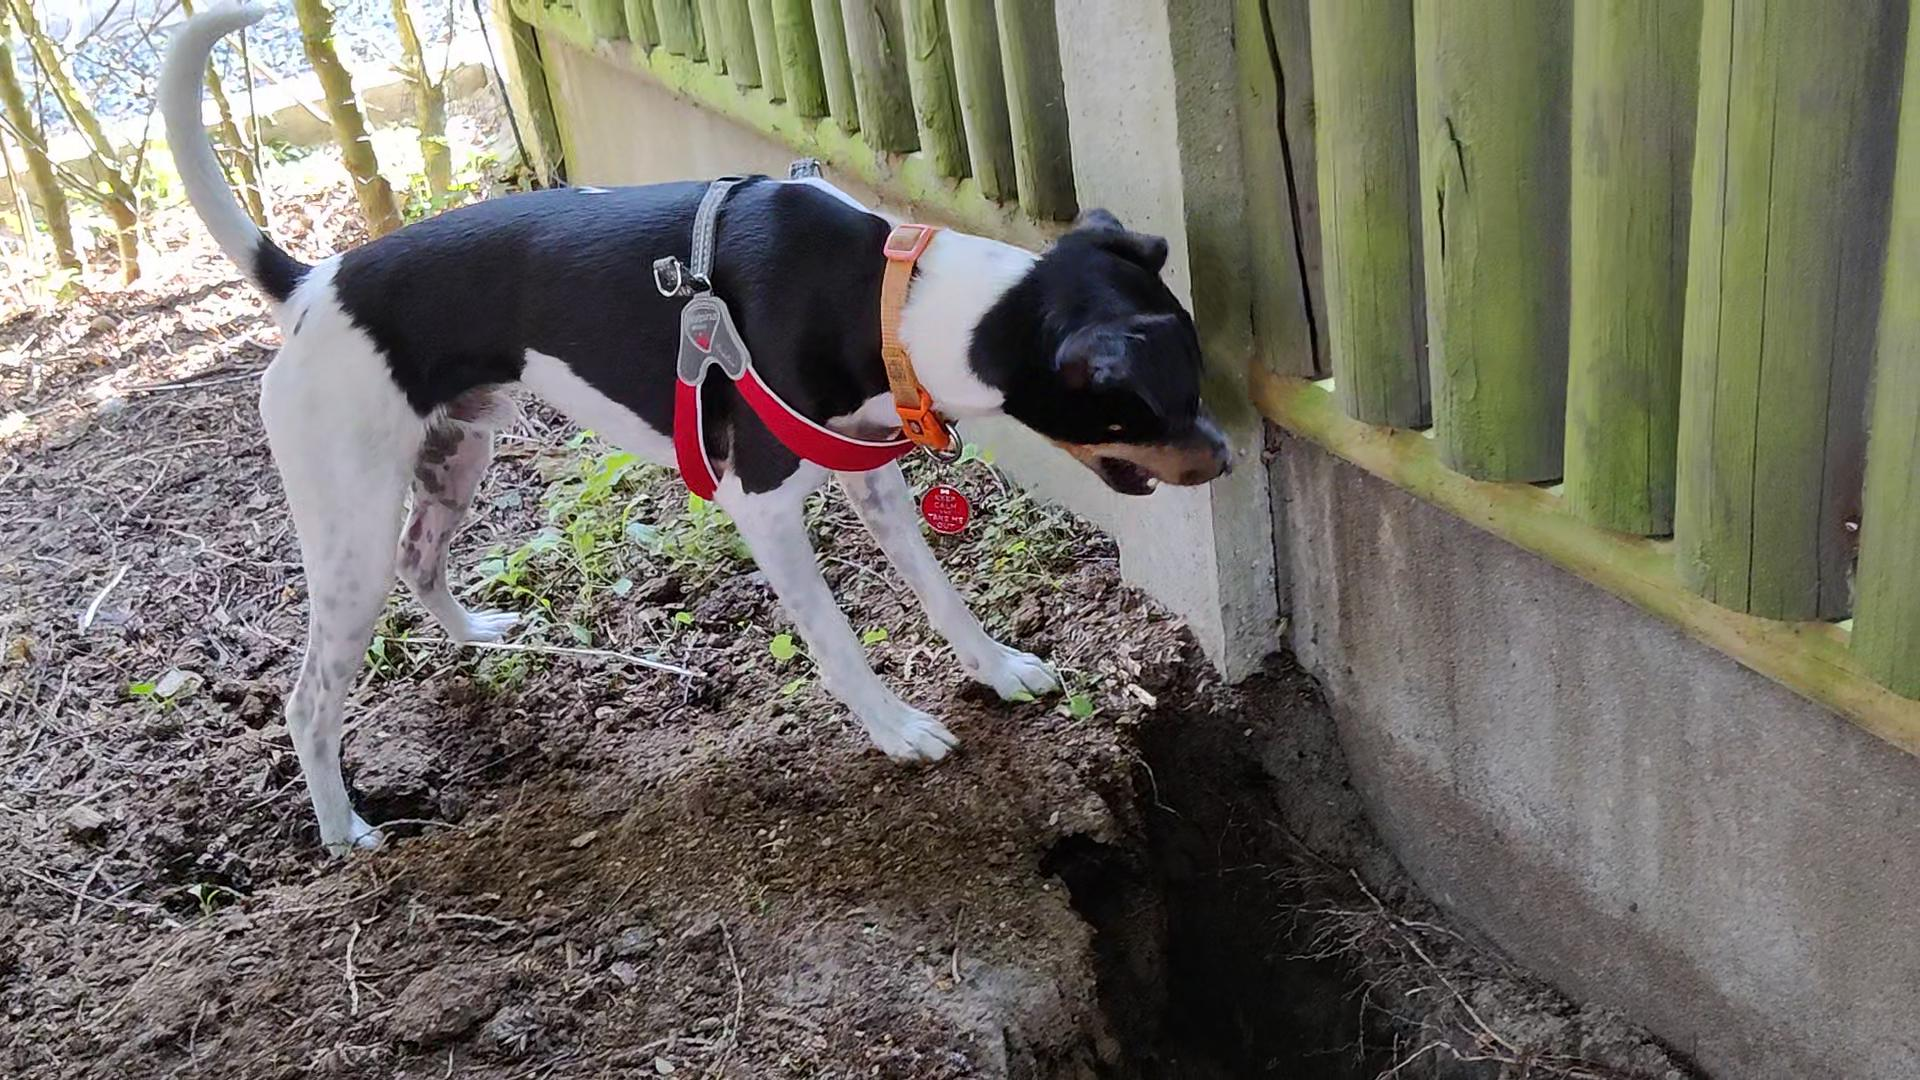Dog: (146, 0, 1244, 860)
